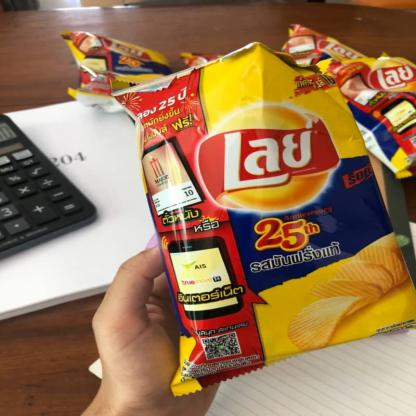potatochip: (99, 38, 416, 404), (307, 49, 416, 183), (55, 28, 189, 121), (268, 15, 380, 124)
